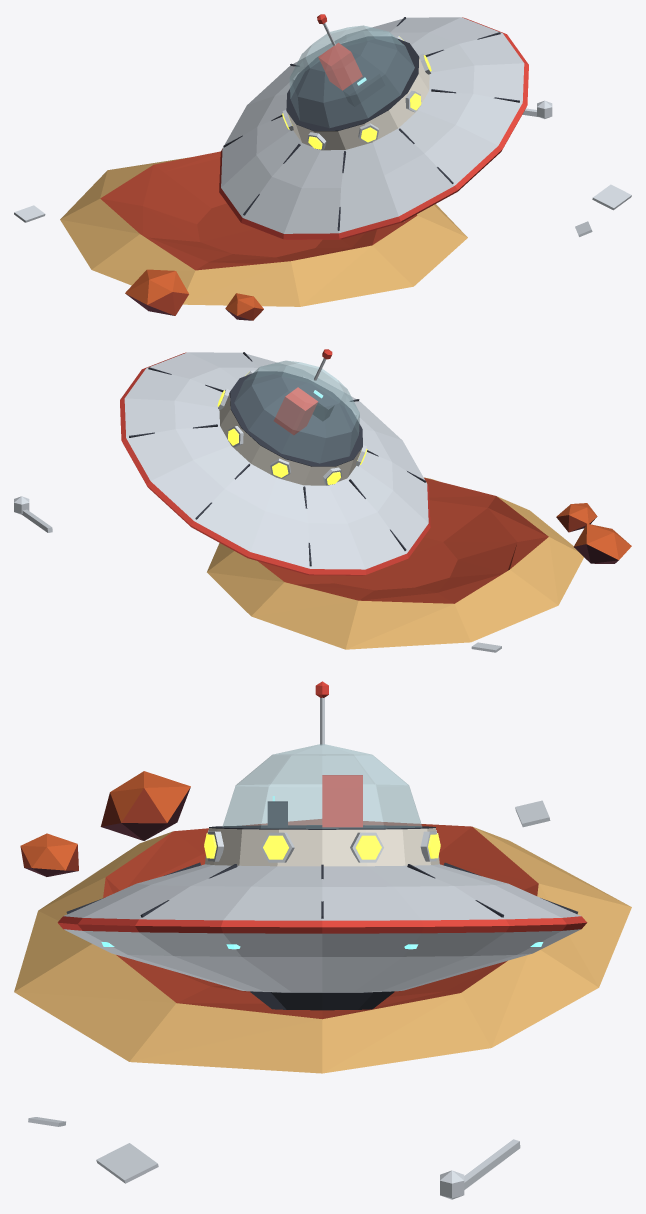
Rendered from Ship_Saucer_Classic_Crashed.fbx.
3 renders of one model, top to bottom at view 1: azimuth 30°, elevation 25°; view 2: azimuth 150°, elevation 25°; view 3: azimuth 270°, elevation 25°, orthographic. The views are drawn at different scales.
Visible parts, largest first — view 1: Ship_Saucer_Classic_Crashed_Body, Ship_Saucer_Classic_Crashed_Crater, Ship_Saucer_Classic_Crashed_Debris; view 2: Ship_Saucer_Classic_Crashed_Body, Ship_Saucer_Classic_Crashed_Crater, Ship_Saucer_Classic_Crashed_Loose_Leg; view 3: Ship_Saucer_Classic_Crashed_Body, Ship_Saucer_Classic_Crashed_Crater, Ship_Saucer_Classic_Crashed_Debris, Ship_Saucer_Classic_Crashed_Loose_Leg.
Boxes of the visible parts, box(x1,y1,x2,y2) form: Ship_Saucer_Classic_Crashed_Body: box(219, 14, 528, 239); Ship_Saucer_Classic_Crashed_Crater: box(60, 151, 467, 320); Ship_Saucer_Classic_Crashed_Debris: box(14, 184, 631, 236); Ship_Saucer_Classic_Crashed_Body: box(120, 349, 430, 575); Ship_Saucer_Classic_Crashed_Crater: box(207, 477, 631, 649); Ship_Saucer_Classic_Crashed_Loose_Leg: box(14, 496, 52, 532); Ship_Saucer_Classic_Crashed_Body: box(57, 681, 587, 1010); Ship_Saucer_Classic_Crashed_Crater: box(14, 771, 631, 1073); Ship_Saucer_Classic_Crashed_Debris: box(28, 800, 550, 1183); Ship_Saucer_Classic_Crashed_Loose_Leg: box(440, 1139, 520, 1199).
Size of the model in its own units: 11.58 by 4.28 by 7.63.
